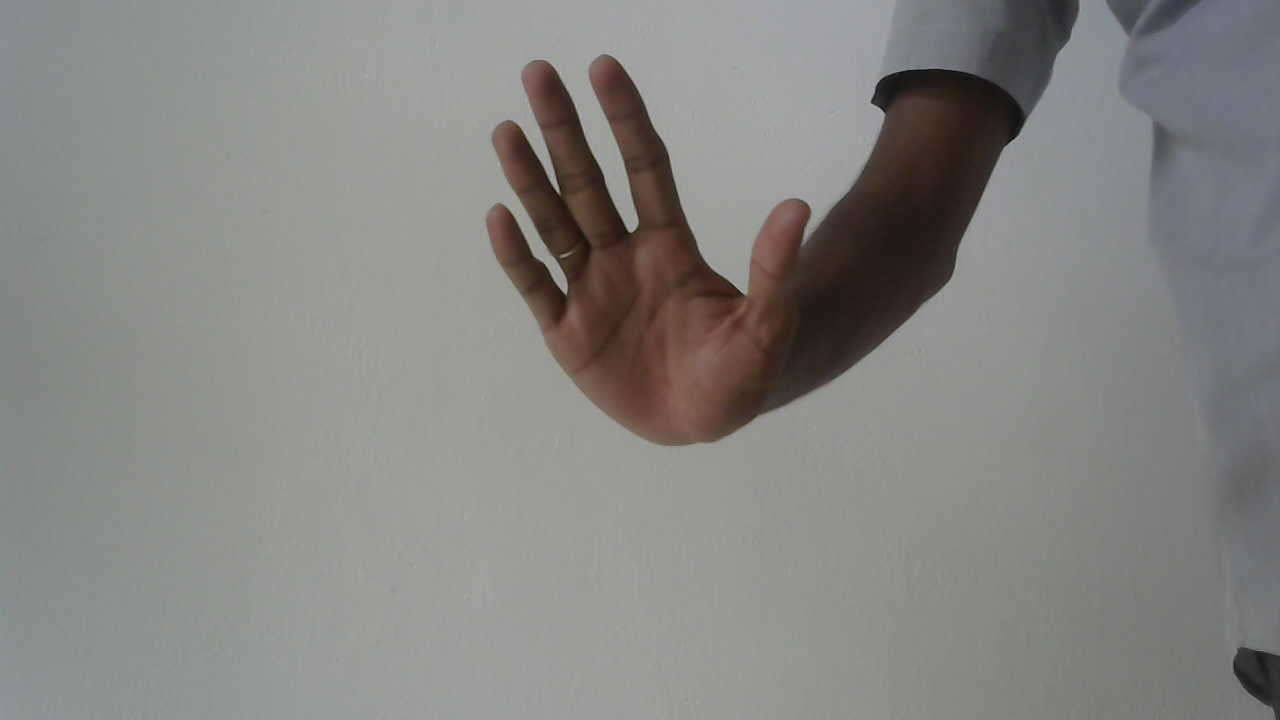hello: (469, 45, 822, 454)
